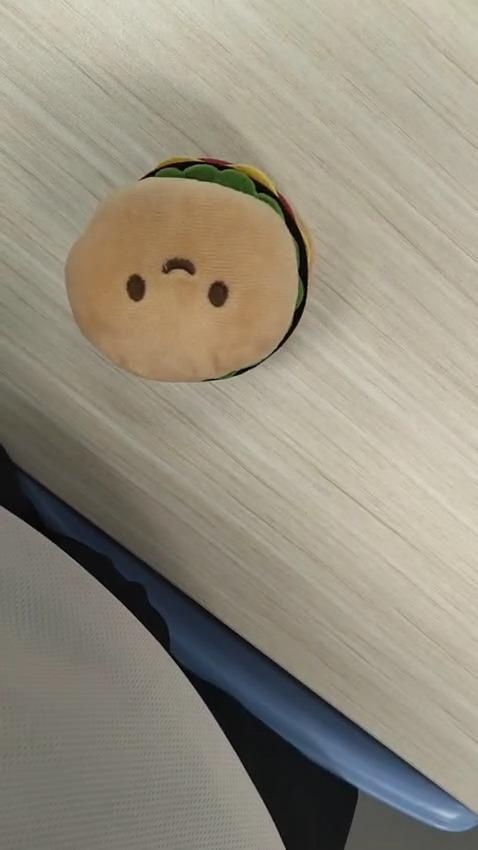hamburger: (66, 152, 315, 388)
